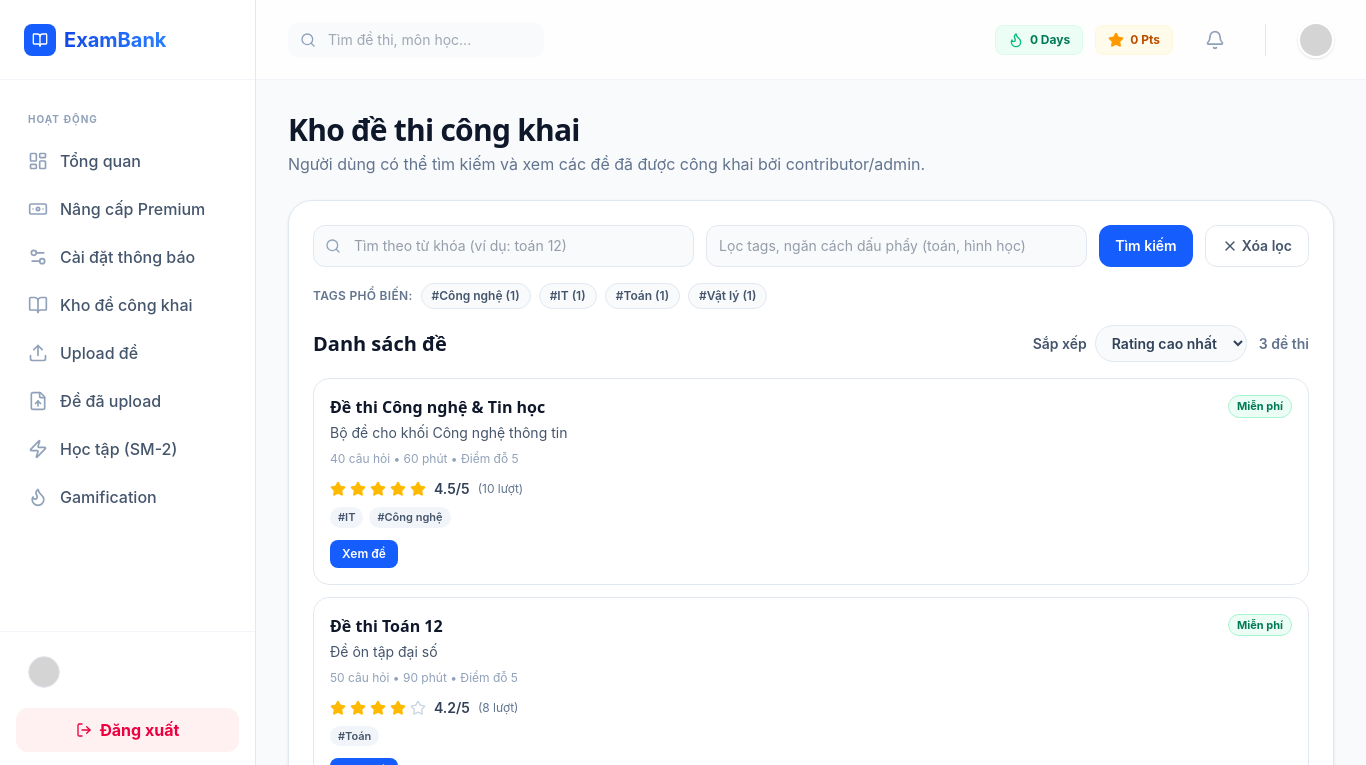
Test case: PublicExams › filters exams by keyword after submitting search form
The image size is (1366, 765).
Check: the heading "Đề thi Công nghệ & Tin học" is shown, box [330,395,545,419]
Type "công nghệ" into the field with placeholder "Tìm theo từ khóa (ví dụ: toán 12)".
click(504, 246); type("công nghệ")  # box [313,225,694,267]
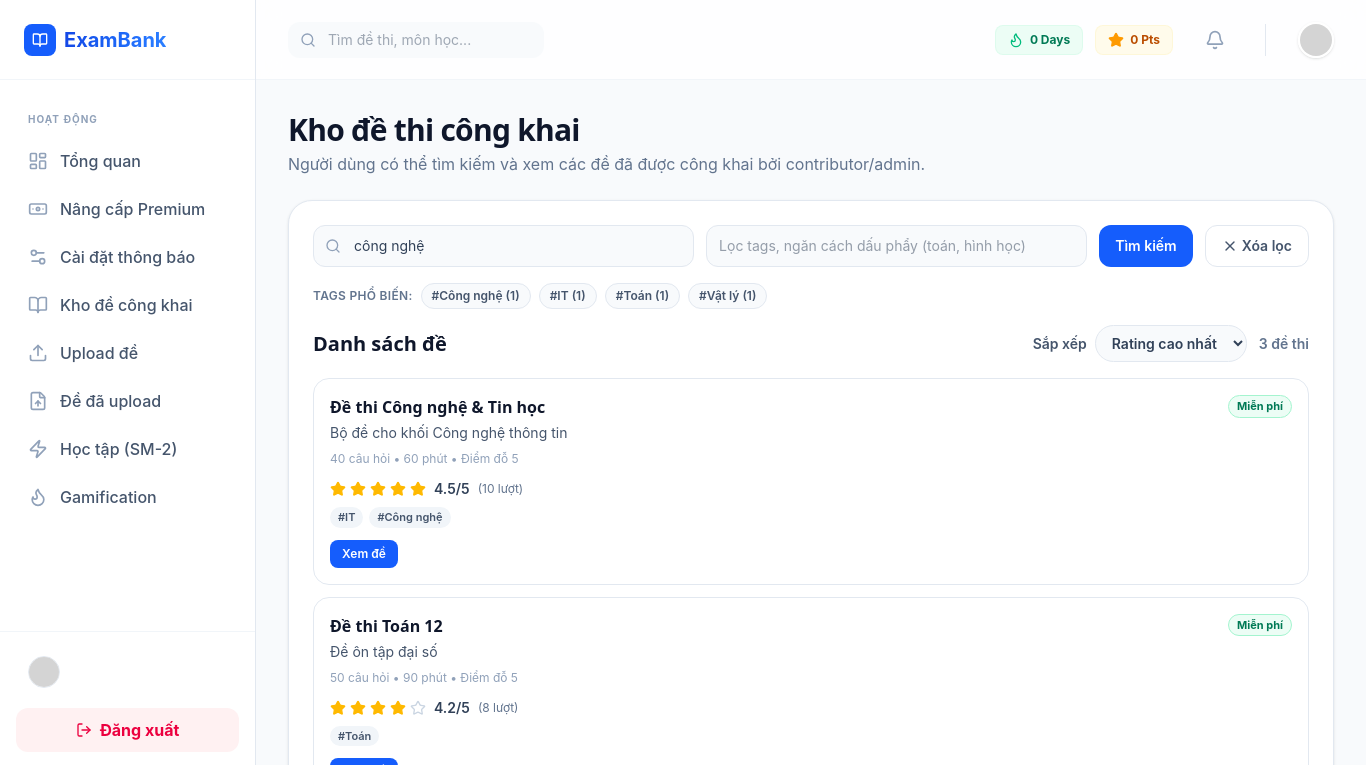
Click the button "Tìm kiếm".
click(1146, 246)  # box [1099,225,1193,267]
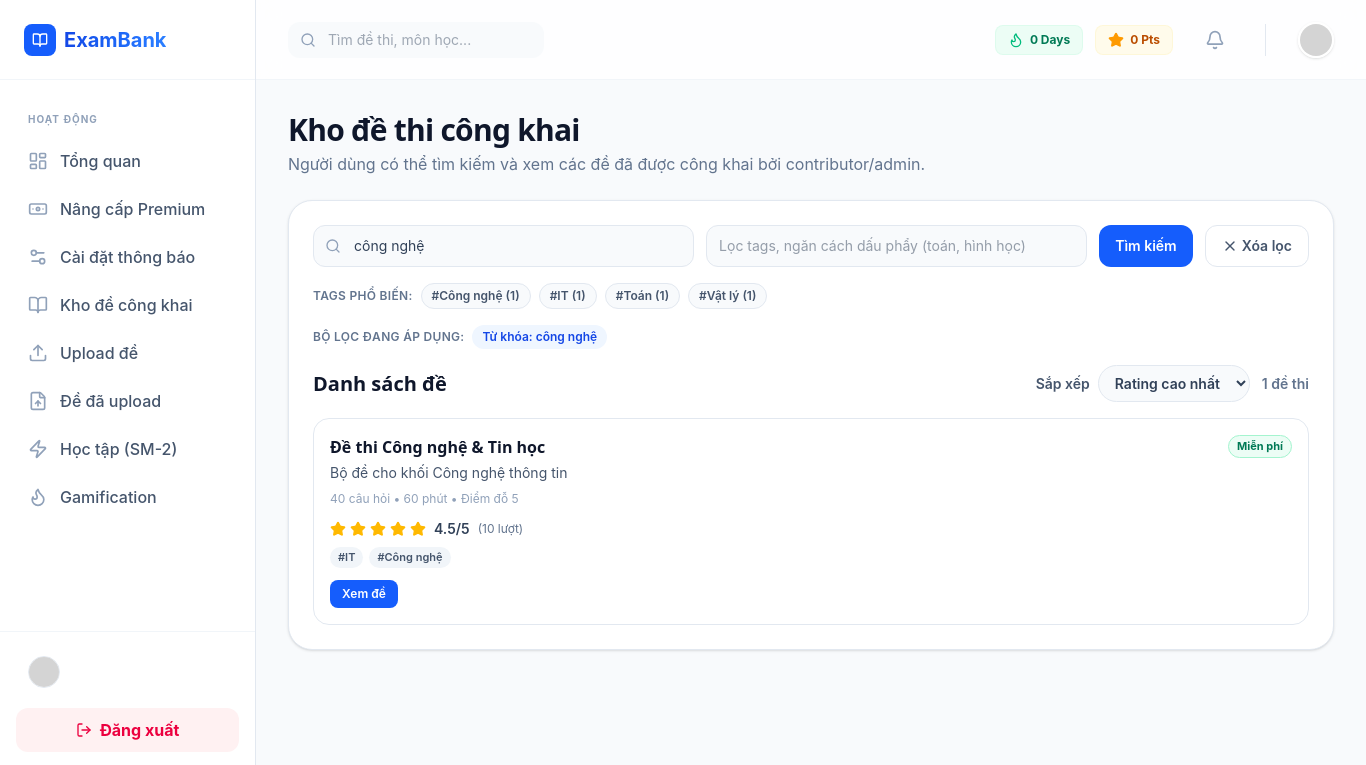
Check: the heading "Đề thi Công nghệ & Tin học" is shown, box [330,435,545,459]
Check: the heading "Đề thi Toán 12" is gone
Check: the text "1 đề thi" is shown, box [1262,374,1309,394]
